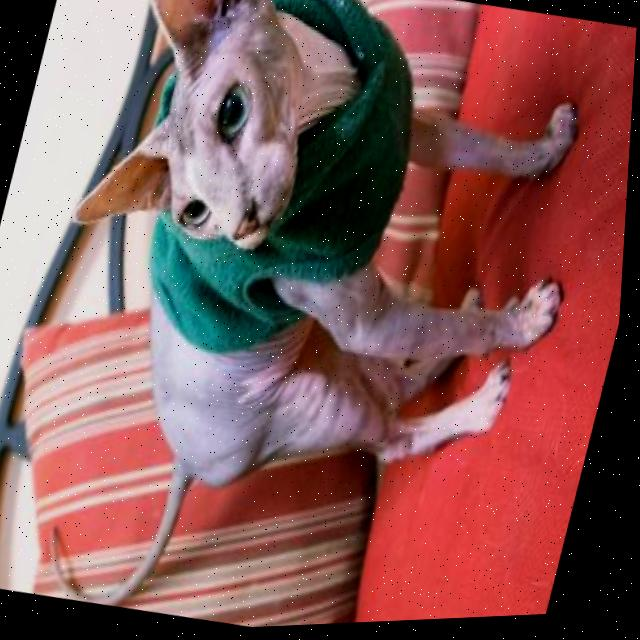Sphynx: (0, 0, 636, 640)
